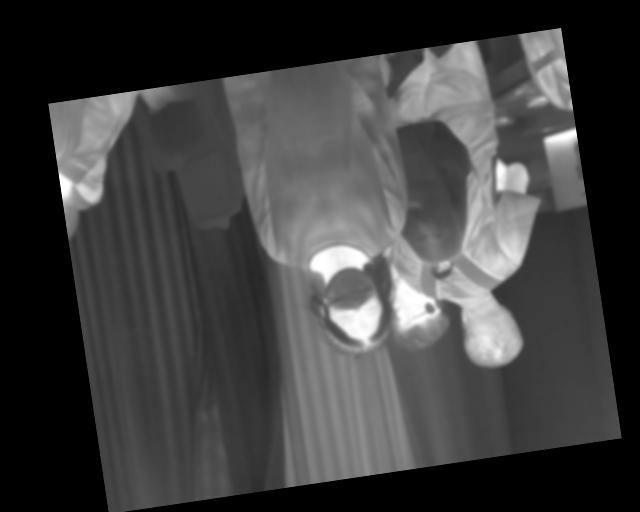face: (315, 263, 389, 358)
